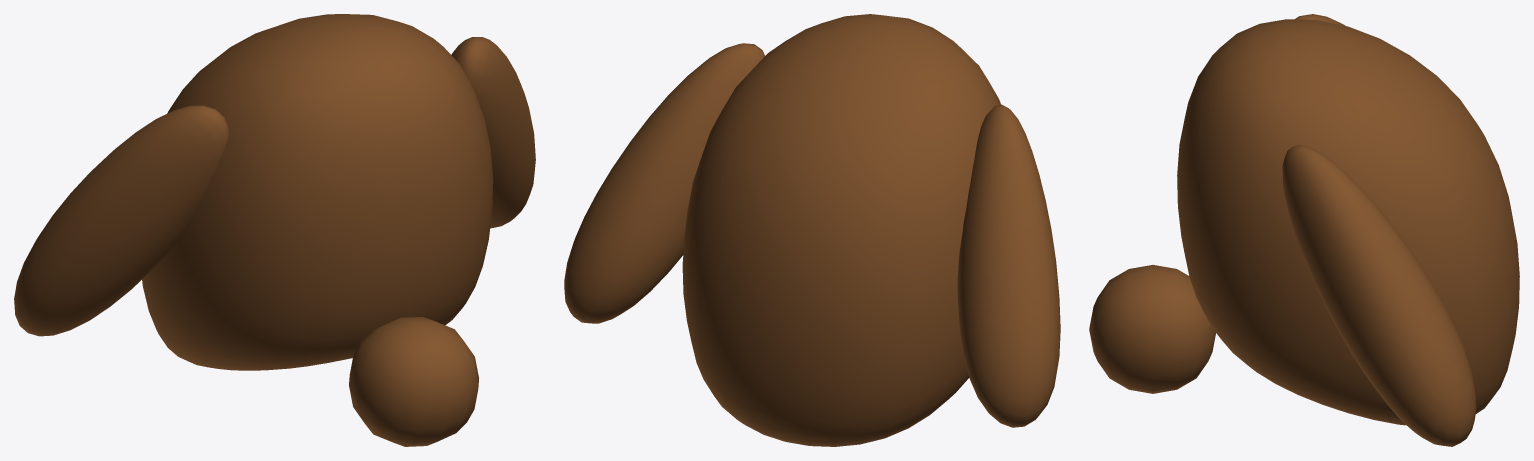
File: bustobearfbx.fbx
The picture shows the model from 3 angles, left to right: view 1: azimuth 30°, elevation 25°; view 2: azimuth 150°, elevation 25°; view 3: azimuth 270°, elevation 25°; orthographic projection. The views are drawn at different scales.
Visible parts, largest first — view 1: Cube.007, Cube.005, Cube.008; view 2: Cube.007, Cube.005; view 3: Cube.007, Cube.005, Cube.008.
Boxes of the visible parts, left/top/right/bottom form: Cube.007: left=142, top=14, right=493, bottom=370; Cube.005: left=14, top=37, right=535, bottom=336; Cube.008: left=349, top=316, right=478, bottom=446; Cube.007: left=682, top=14, right=1000, bottom=446; Cube.005: left=564, top=43, right=1060, bottom=427; Cube.007: left=1177, top=19, right=1519, bottom=425; Cube.005: left=1282, top=14, right=1476, bottom=446; Cube.008: left=1089, top=265, right=1215, bottom=393.
Size of the model in its own units: 177 by 124 by 132.
